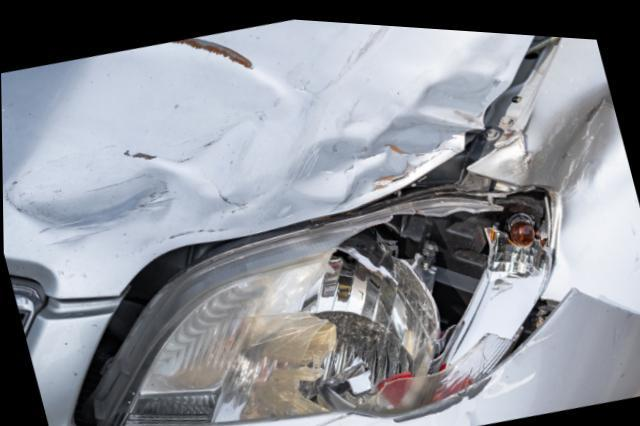dent: (2, 15, 510, 234), (525, 76, 640, 304)
lamp broken: (85, 181, 553, 426)
scratch: (300, 368, 500, 426)
